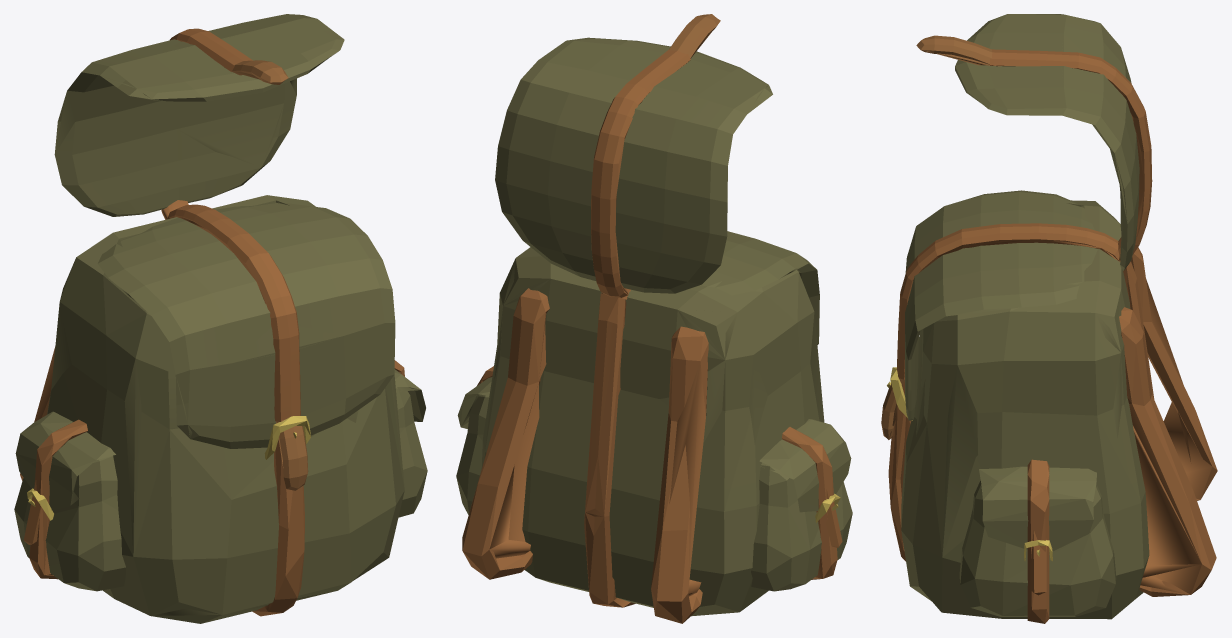
The model's file is item_backpack_green.glb.
3 renders of one model, left to right at view 1: azimuth 30°, elevation 25°; view 2: azimuth 150°, elevation 25°; view 3: azimuth 270°, elevation 25°, orthographic. The views are drawn at different scales.
Visible parts, largest first — view 1: Backpack.002 (×2), Backpack; view 2: Backpack, Backpack.002 (×2); view 3: Backpack, Backpack.002 (×2).
Part boxes in pixels (x1=…): Backpack.002 (×2): x1=54, y1=14, x2=395, y2=490; Backpack: x1=14, y1=195, x2=427, y2=623; Backpack: x1=456, y1=247, x2=852, y2=623; Backpack.002 (×2): x1=495, y1=14, x2=819, y2=344; Backpack: x1=887, y1=200, x2=1217, y2=623; Backpack.002 (×2): x1=881, y1=14, x2=1152, y2=439.
Bounding box in the file's own units: 0.5338 × 0.7229 × 0.4031.
Materials: 1 (1 with a texture image).
